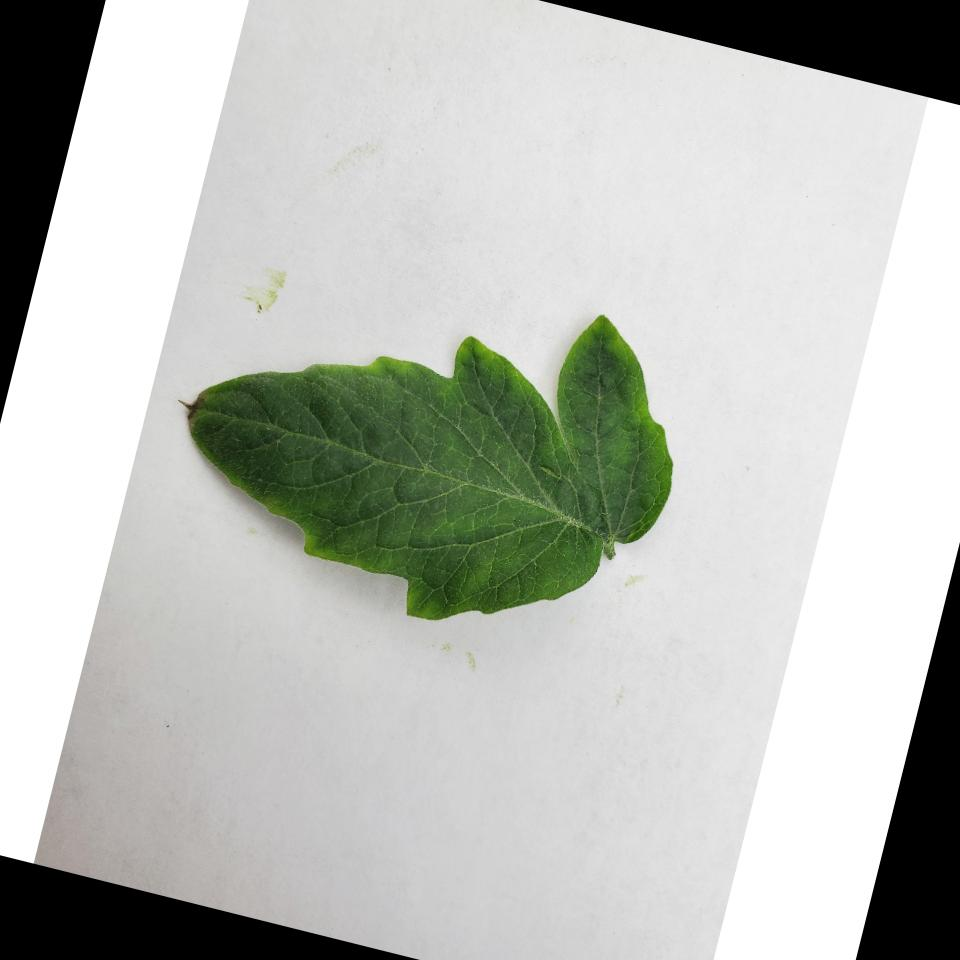tomato_leaves: (156, 224, 704, 660)
